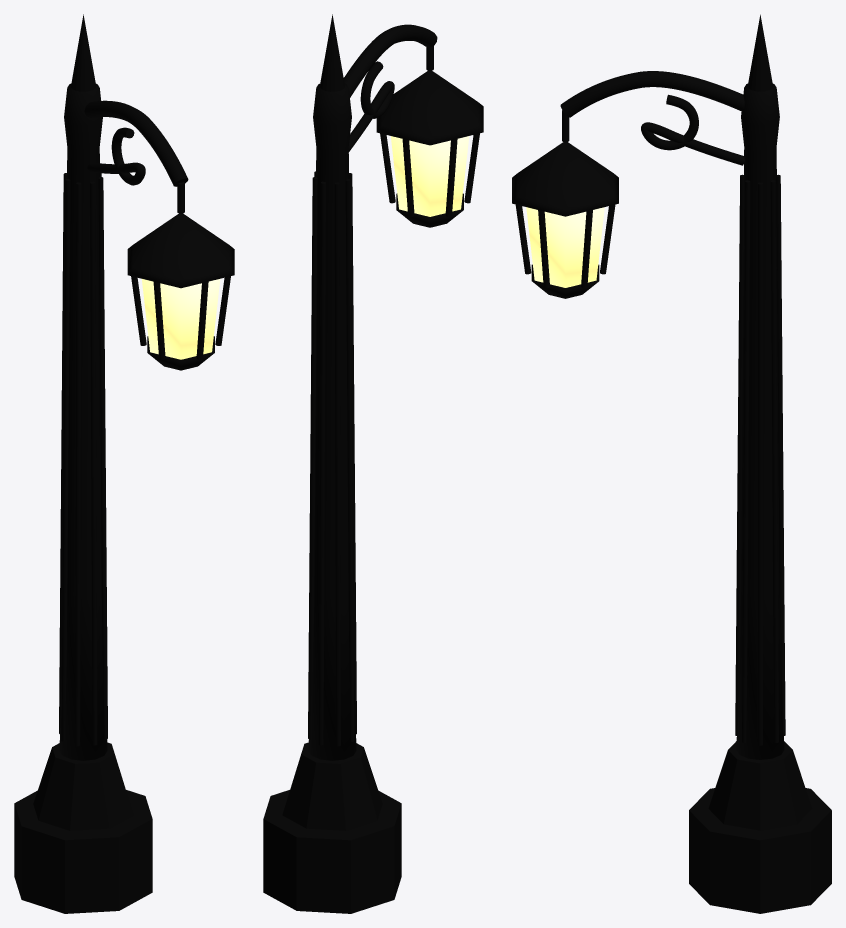
File: cenario_lanterna_rua.glb
3 renders of one model, left to right at view 1: azimuth 30°, elevation 25°; view 2: azimuth 150°, elevation 25°; view 3: azimuth 270°, elevation 25°, orthographic.
Parts seen in each view (by area): view 1: cenario_lanterna_rua, vidro; view 2: cenario_lanterna_rua, vidro; view 3: cenario_lanterna_rua, vidro.
Part boxes in pixels (<box>): cenario_lanterna_rua: <box>14,14,234,913</box>; vidro: <box>142,279,220,359</box>; cenario_lanterna_rua: <box>263,14,483,913</box>; vidro: <box>390,136,469,216</box>; cenario_lanterna_rua: <box>512,14,831,913</box>; vidro: <box>526,207,604,287</box>.
Size of the model in its own units: 0.44 by 2.96 by 0.9845.
Materials: 2 (1 with a texture image).
